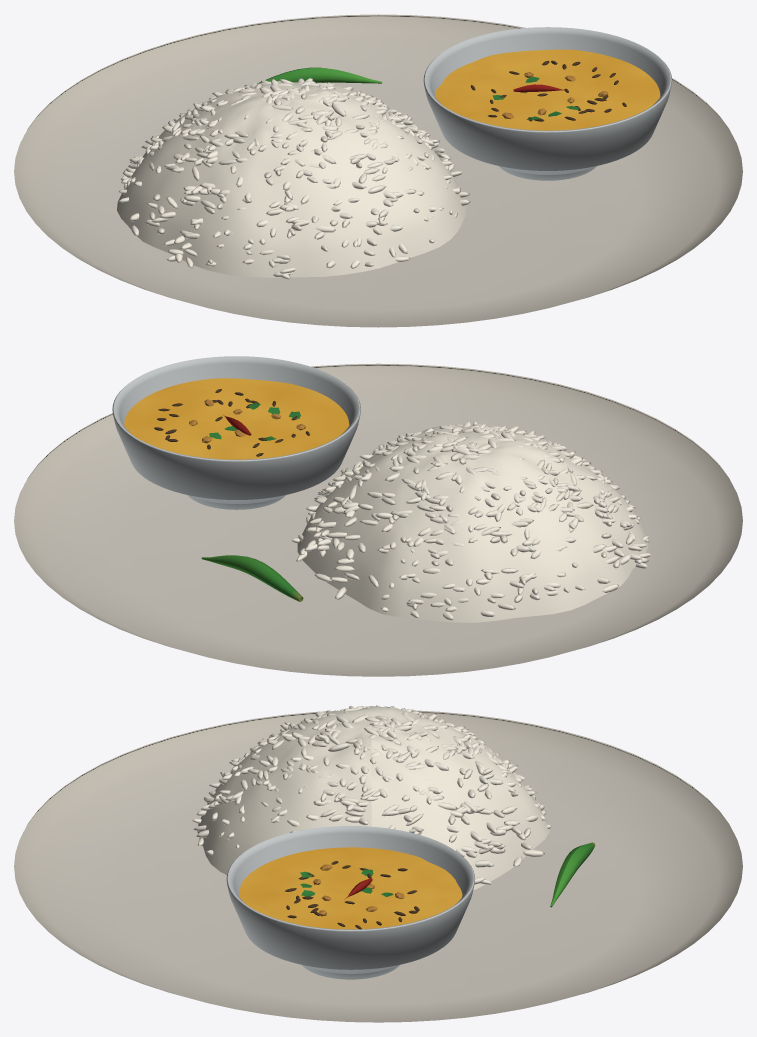
Rendered from rice-and-dal.glb.
The picture shows the model from 3 angles, top to bottom: view 1: azimuth 30°, elevation 25°; view 2: azimuth 150°, elevation 25°; view 3: azimuth 270°, elevation 25°; orthographic projection.
Visible parts, largest first — view 1: plate, rice, steel, liquid, garnish; view 2: plate, rice, steel, liquid, garnish; view 3: plate, rice, steel, liquid, garnish.
Boxes of the visible parts, box(x1,y1,x2,y2) form: plate: box(14, 14, 742, 327); rice: box(117, 78, 470, 279); steel: box(423, 27, 672, 180); liquid: box(435, 49, 660, 130); garnish: box(257, 60, 626, 121); plate: box(14, 363, 742, 676); rice: box(291, 421, 651, 622); steel: box(112, 356, 360, 509); liquid: box(124, 378, 349, 459); garnish: box(154, 389, 309, 601); plate: box(14, 710, 742, 1022); rice: box(192, 705, 551, 889); steel: box(226, 826, 475, 979); liquid: box(239, 847, 462, 929); garnish: box(285, 842, 595, 929).
Size of the model in its own units: 2.11 by 0.4057 by 2.11.
